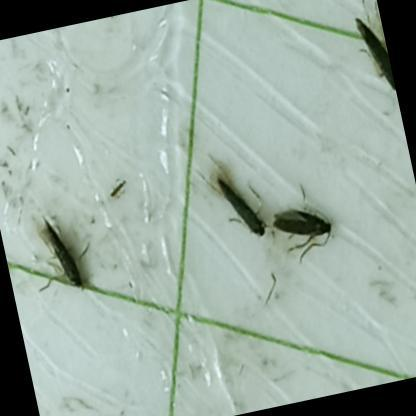prays_oleae: (24, 176, 110, 316), (199, 150, 274, 265), (267, 178, 355, 270), (336, 0, 399, 114)
